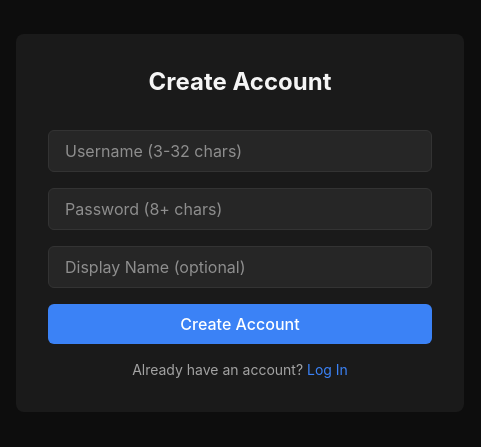
Test: RegisterView › handles registration failure
In the field with placeholder "Username (3-32 chars)": (240, 151) [48, 130, 432, 172], type "existing"
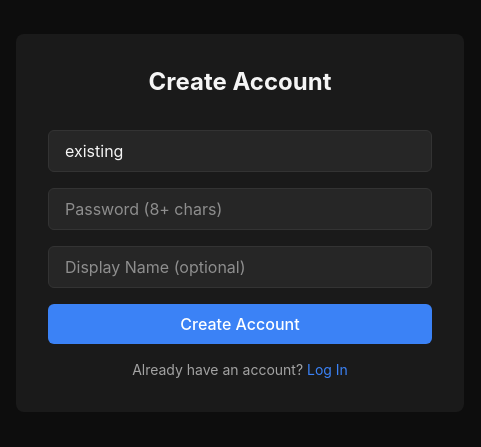
In the password field with placeholder "Password (8+ chars)": (240, 209) [48, 188, 432, 230], type "password123"
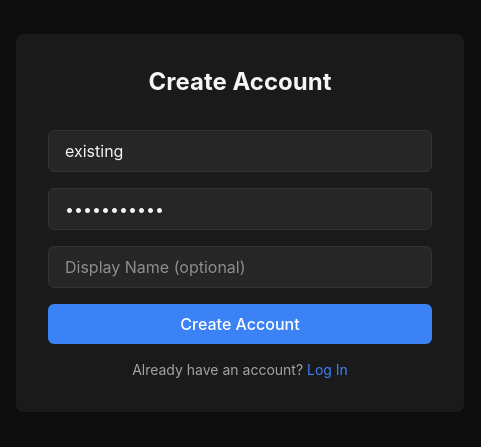
Submit the form, box [48, 130, 432, 344]
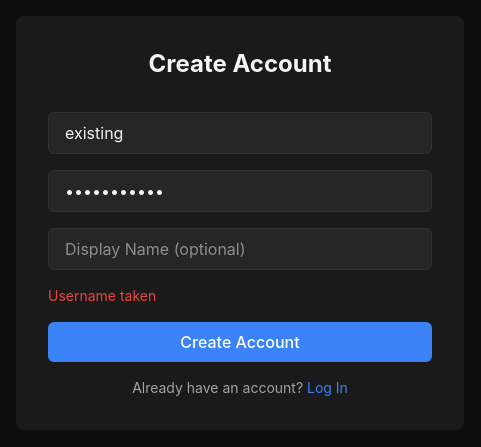
Expected: the text "Username taken" is shown, [48, 287, 156, 304]
